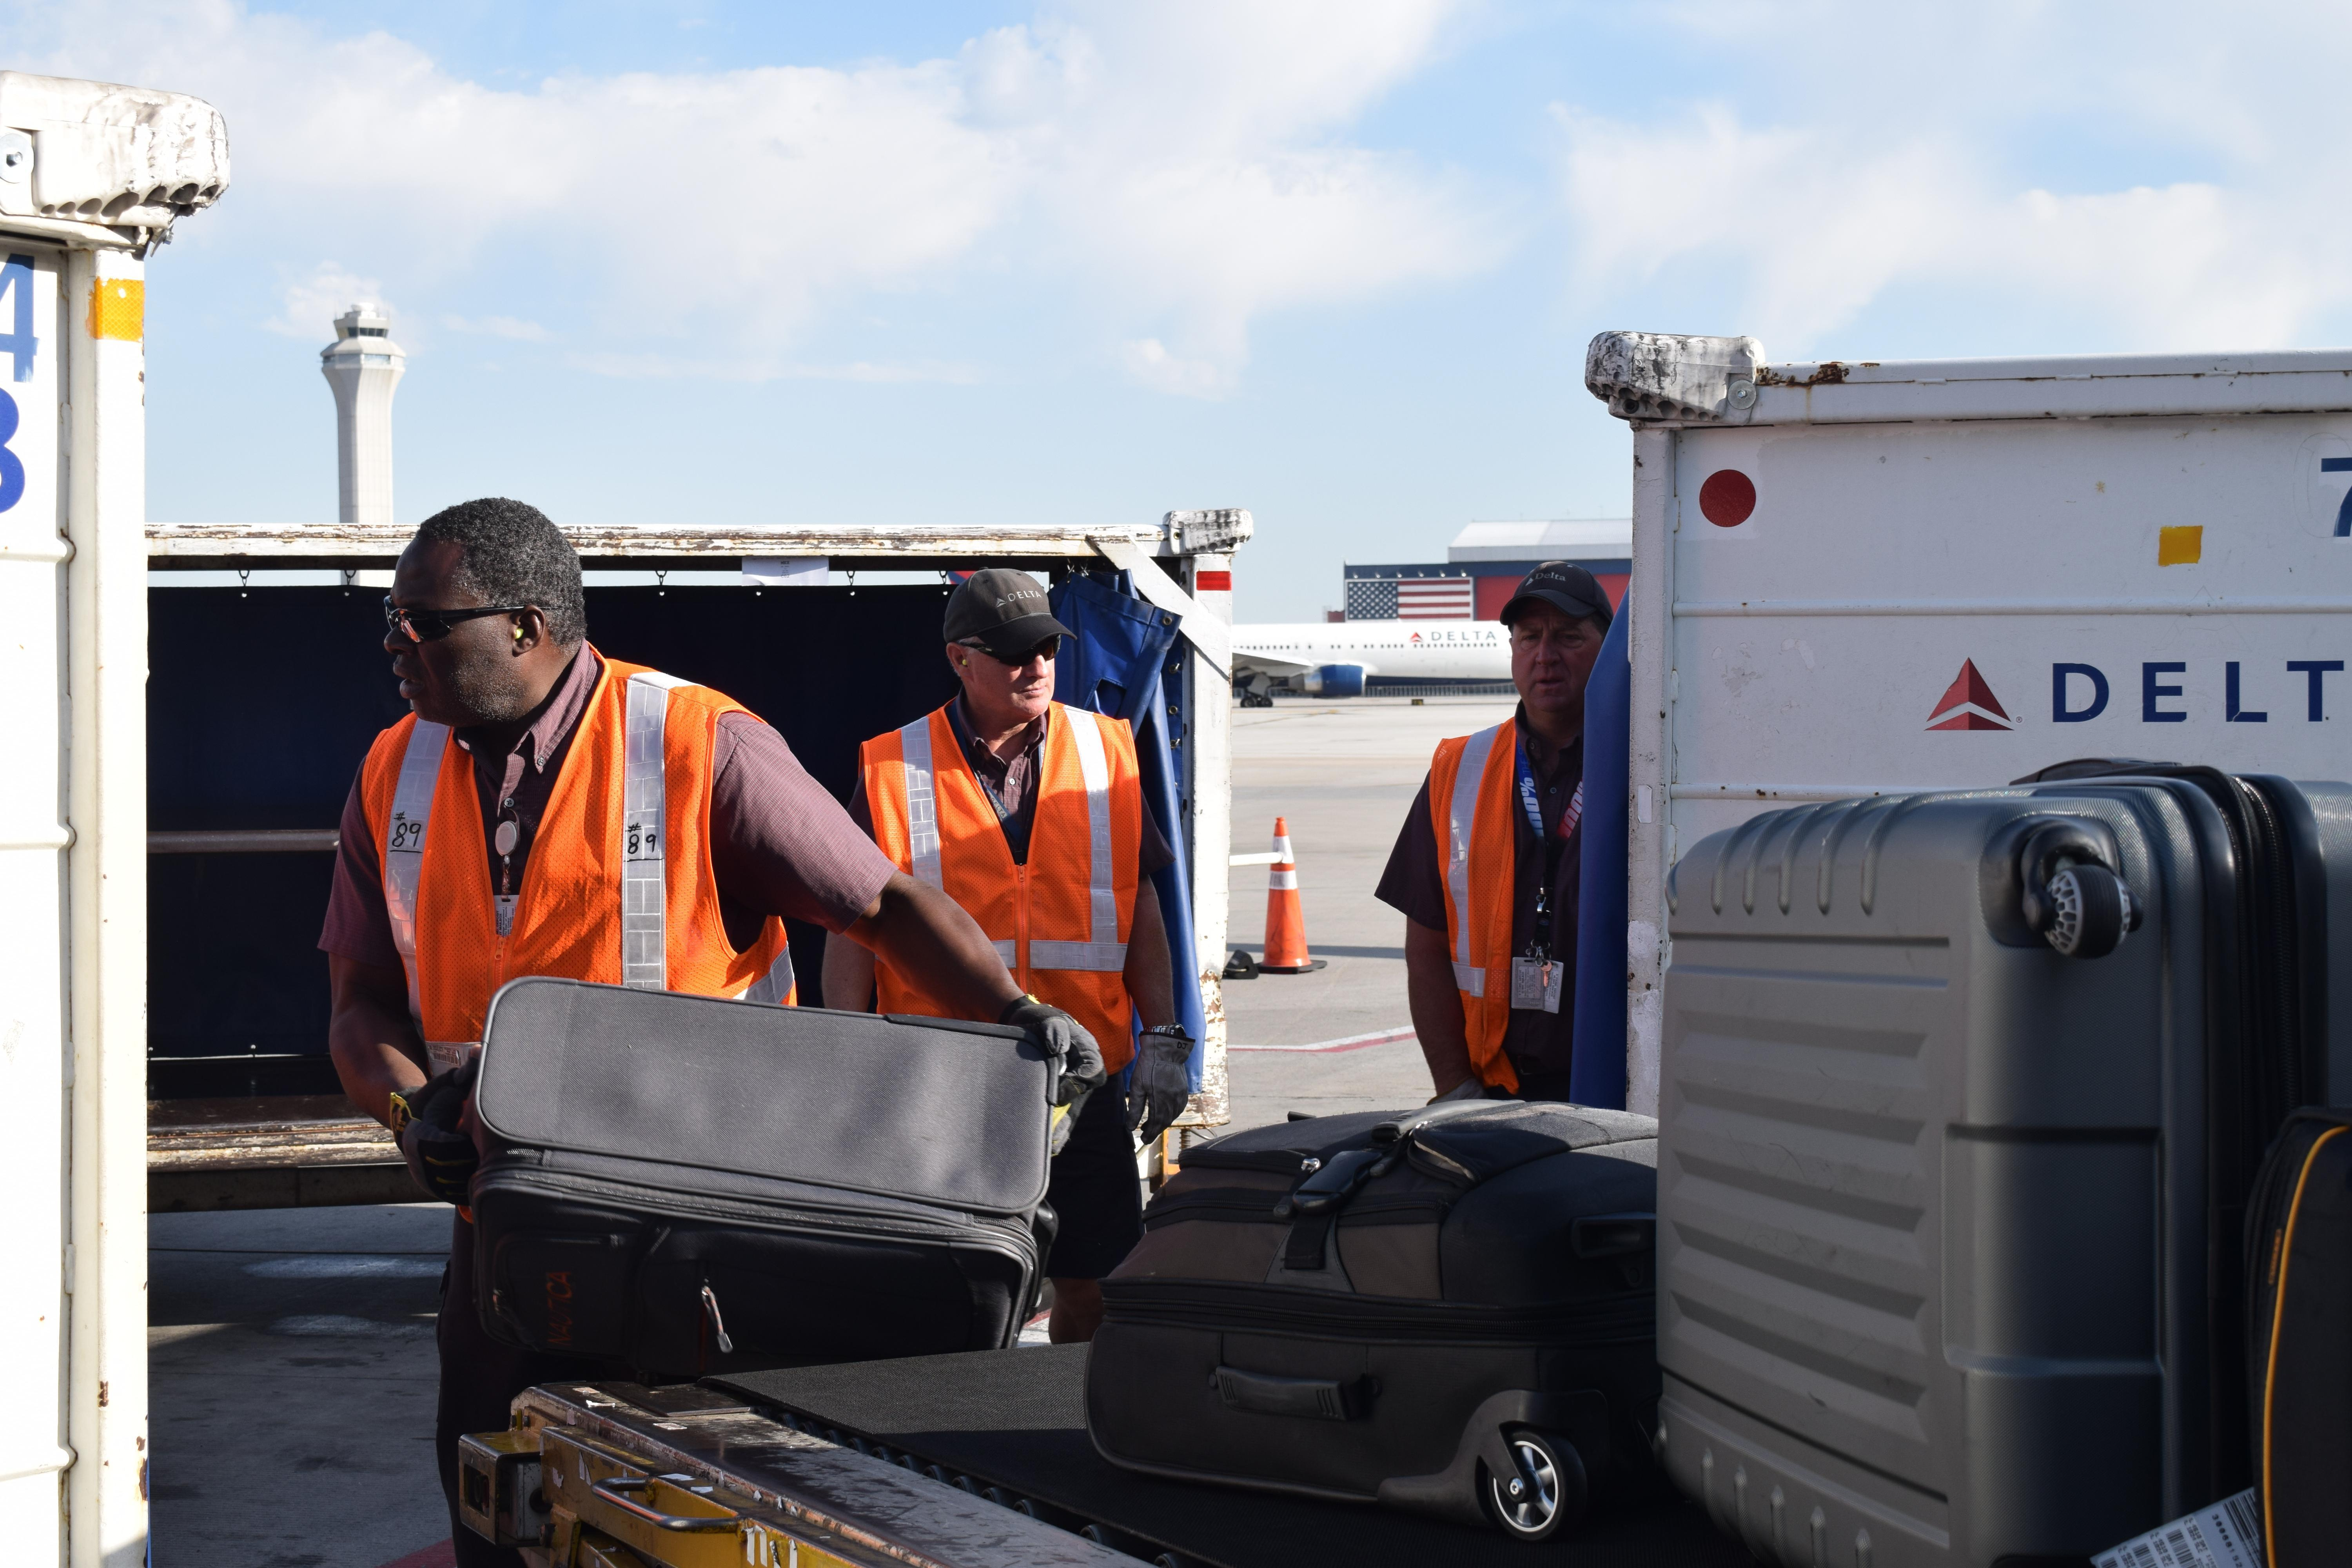vest: (329, 647, 828, 1125), (824, 677, 1164, 1081), (1414, 702, 1701, 1108)
